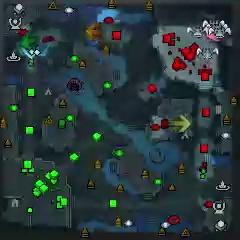x1: (205, 31, 221, 41)
x2: (170, 114, 190, 133)
x3: (20, 44, 41, 58)
x4: (20, 32, 39, 50)
x5: (85, 22, 103, 39)
